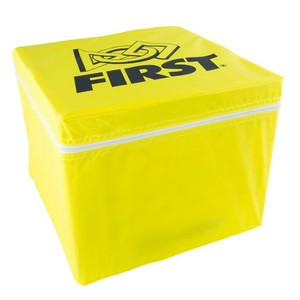cube: (13, 24, 288, 284)
